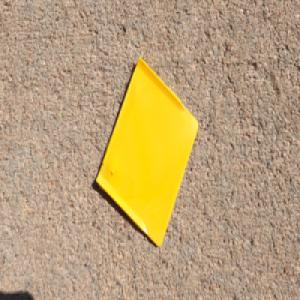PlasticPart: (94, 53, 200, 248)
